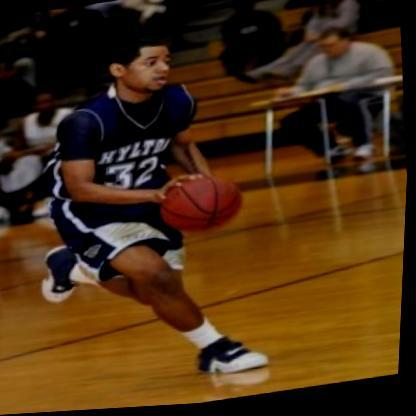basketball: (157, 170, 251, 242)
